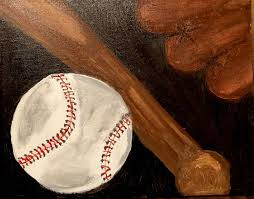baseball bat: (1, 1, 230, 196)
